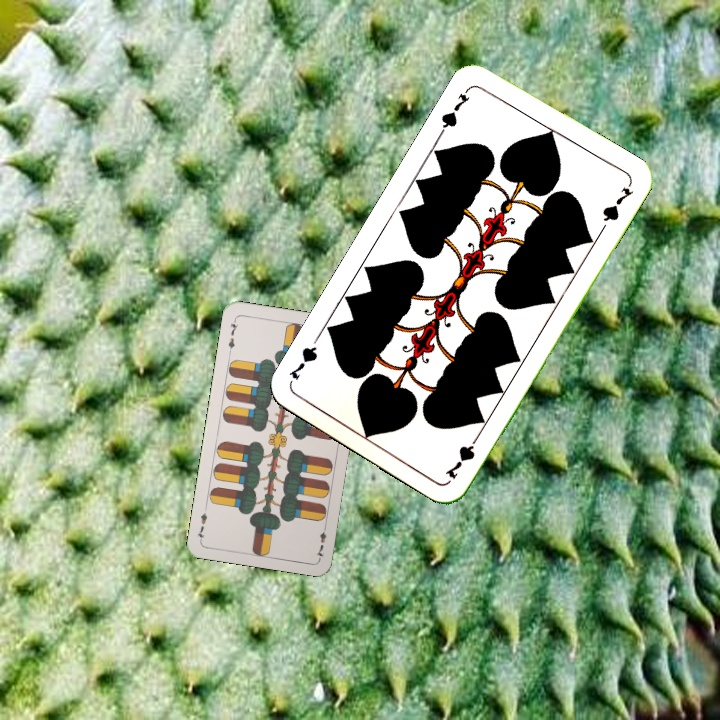E7: (224, 315, 241, 356), (312, 520, 329, 561)
G7: (441, 429, 484, 482), (436, 83, 473, 137)
